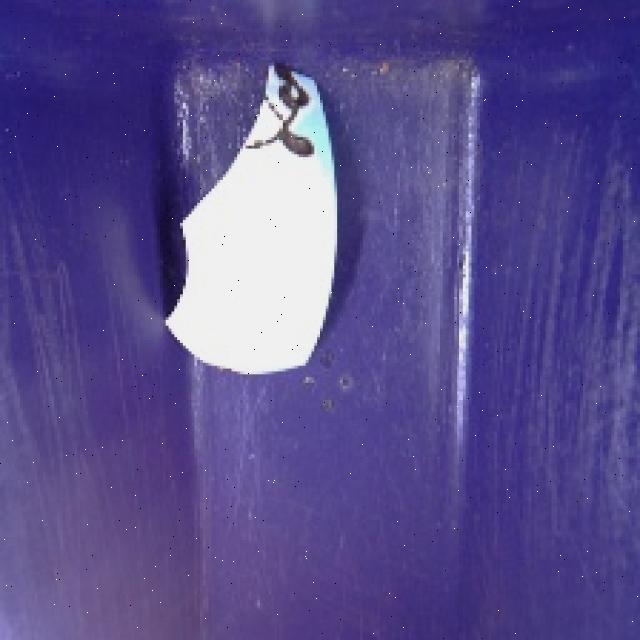china: (151, 59, 355, 382)
